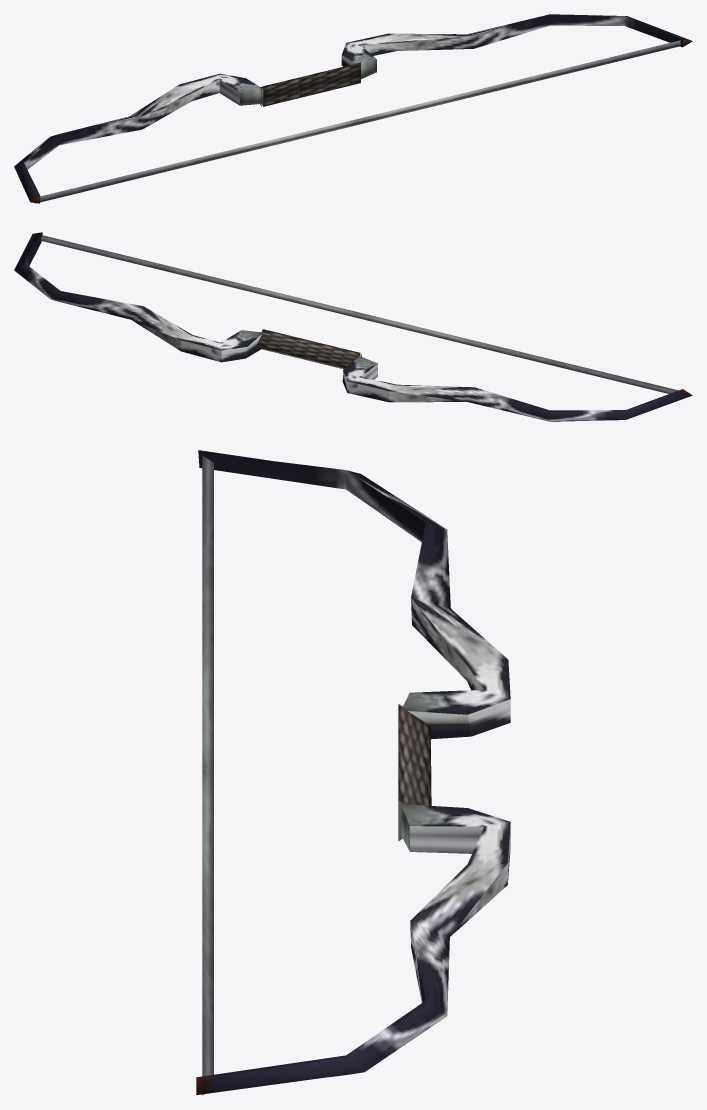
The model's file is ITRW_BOW_H_VANILLA_03.glb.
3 views of the same model, one above another, from view 1: azimuth 30°, elevation 25°; view 2: azimuth 150°, elevation 25°; view 3: azimuth 270°, elevation 25° (orthographic). The views are drawn at different scales.
Parts seen in each view (by area): view 1: ITRW_BOW_H_VANILLA_03; view 2: ITRW_BOW_H_VANILLA_03; view 3: ITRW_BOW_H_VANILLA_03.
Part boxes in pixels (box(x1,y1,x2,y2)): ITRW_BOW_H_VANILLA_03: box(14, 14, 692, 203); ITRW_BOW_H_VANILLA_03: box(14, 232, 692, 421); ITRW_BOW_H_VANILLA_03: box(196, 450, 510, 1095).
Bounding box in the file's own units: 1.98 × 0.0589 × 0.4083.
1 material, 1 textured.
